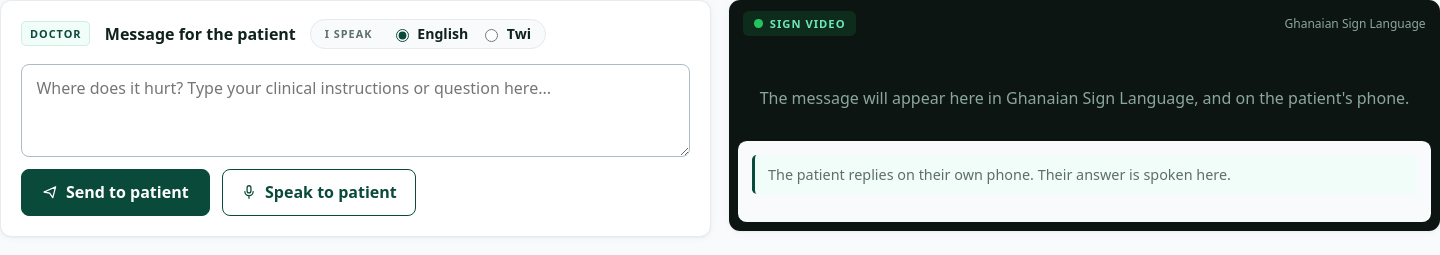
Scenario: sending the message to the patient's phone › never sends a refused sentence
Type "Where does it hurt?" into the text box named "message for the patient".
click(356, 110); type("Where does it hurt?")  # box [21,64,690,157]
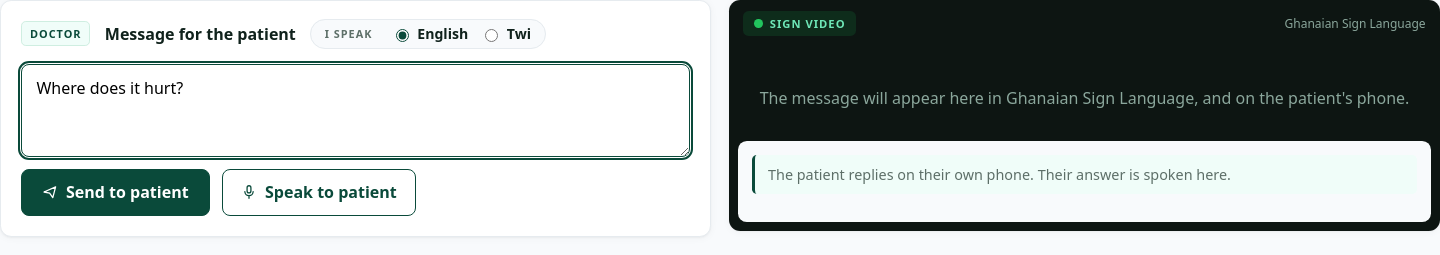
Click the button "Send to patient".
click(115, 192)  # box [21,169,210,216]
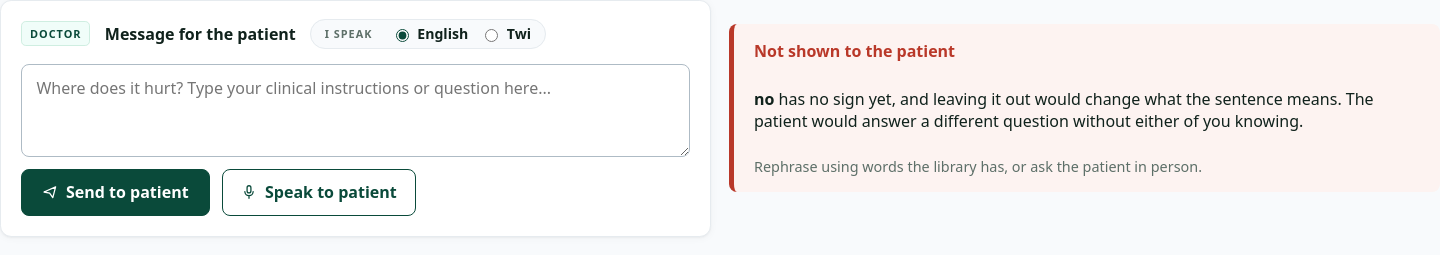
Result: the message with test id "utterance-refused" is shown at [729,24,1439,192]
